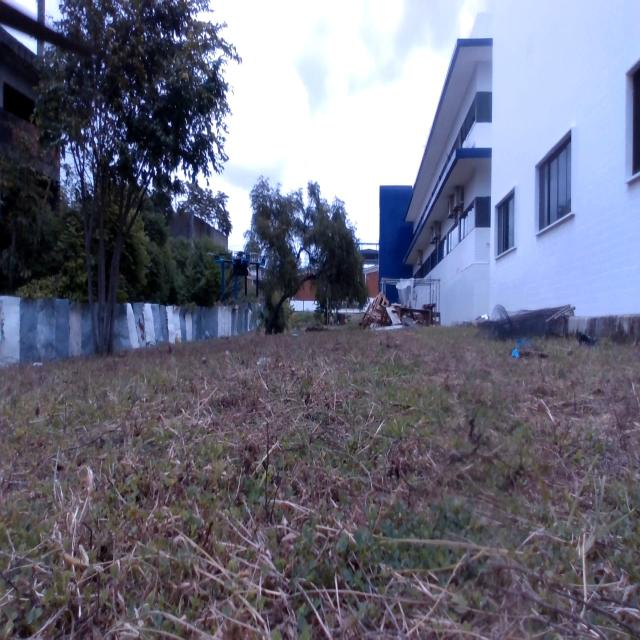-uav-: (206, 234, 270, 306)
